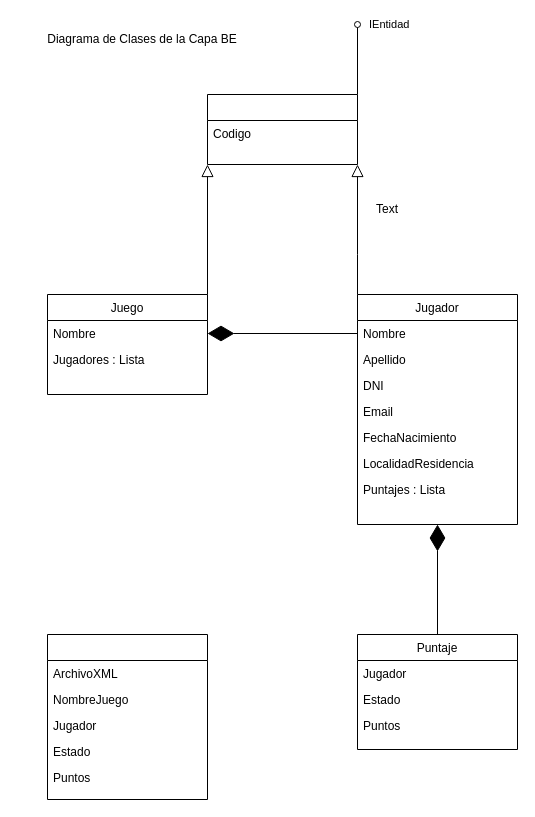
Some shapes in this 535 by 817 pixel diagram are drawn without their labels. Here are the shapes that lost their labels. From the top down, the box of each, then its label:
(206, 94, 358, 164): Entidad
(46, 634, 208, 800): Historial
